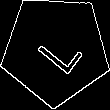L_NW: (28, 22, 84, 78)
